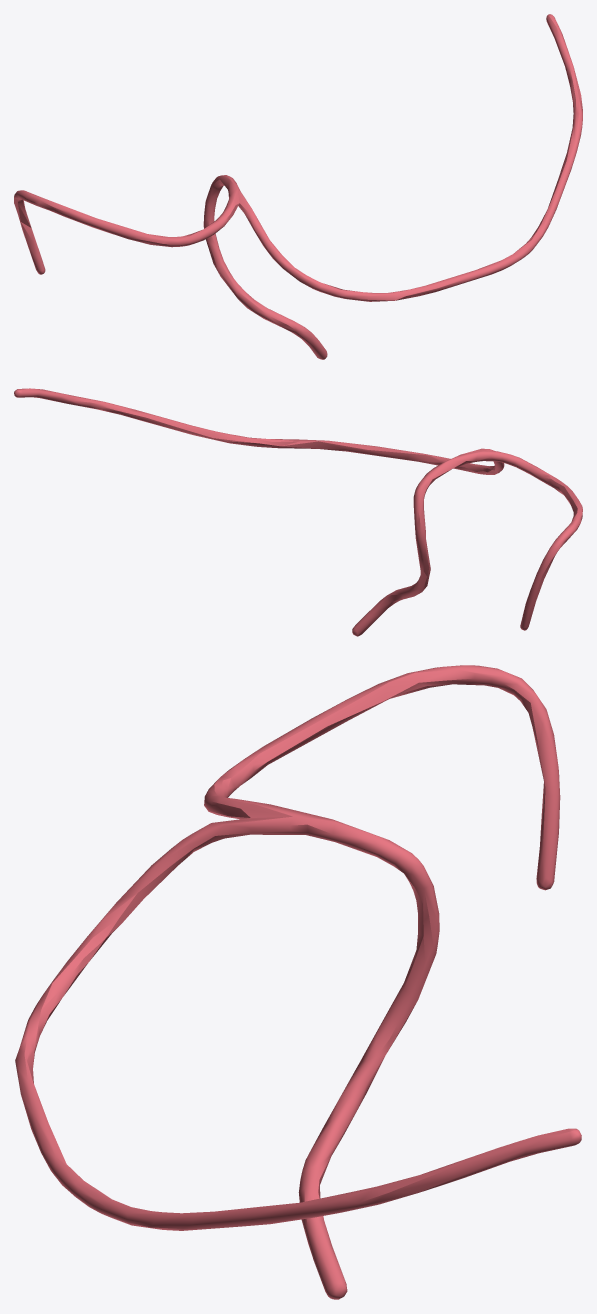
The model's file is fma14810_fj3542.glb.
3 views of the same model, one above another, from view 1: azimuth 30°, elevation 25°; view 2: azimuth 150°, elevation 25°; view 3: azimuth 270°, elevation 25° (orthographic). The views are drawn at different scales.
Parts seen in each view (by area): view 1: FMA14810_FJ3542; view 2: FMA14810_FJ3542; view 3: FMA14810_FJ3542.
Part boxes in pixels (x1=…): FMA14810_FJ3542: x1=14, y1=14, x2=582, y2=359; FMA14810_FJ3542: x1=14, y1=388, x2=582, y2=636; FMA14810_FJ3542: x1=15, y1=665, x2=581, y2=1299.
Size of the model in its own units: 0.131 by 0.0517 by 0.06.
